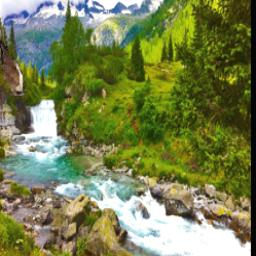Cuckoo: (0, 14, 26, 96)
